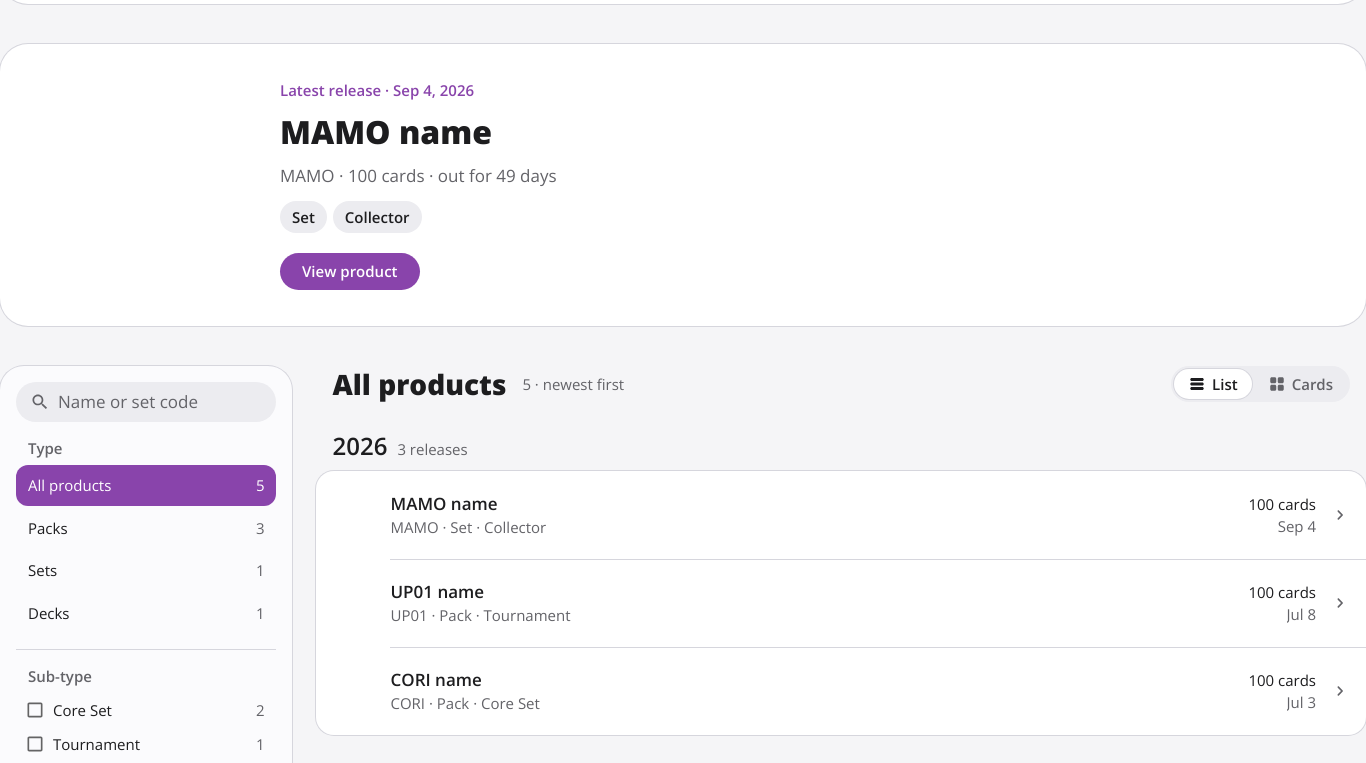
Test case: switches between the list and cards views
(page scrolled)
Click the button "Cards".
click(1300, 384)  # box x1=1254 y1=369 x2=1347 y2=399
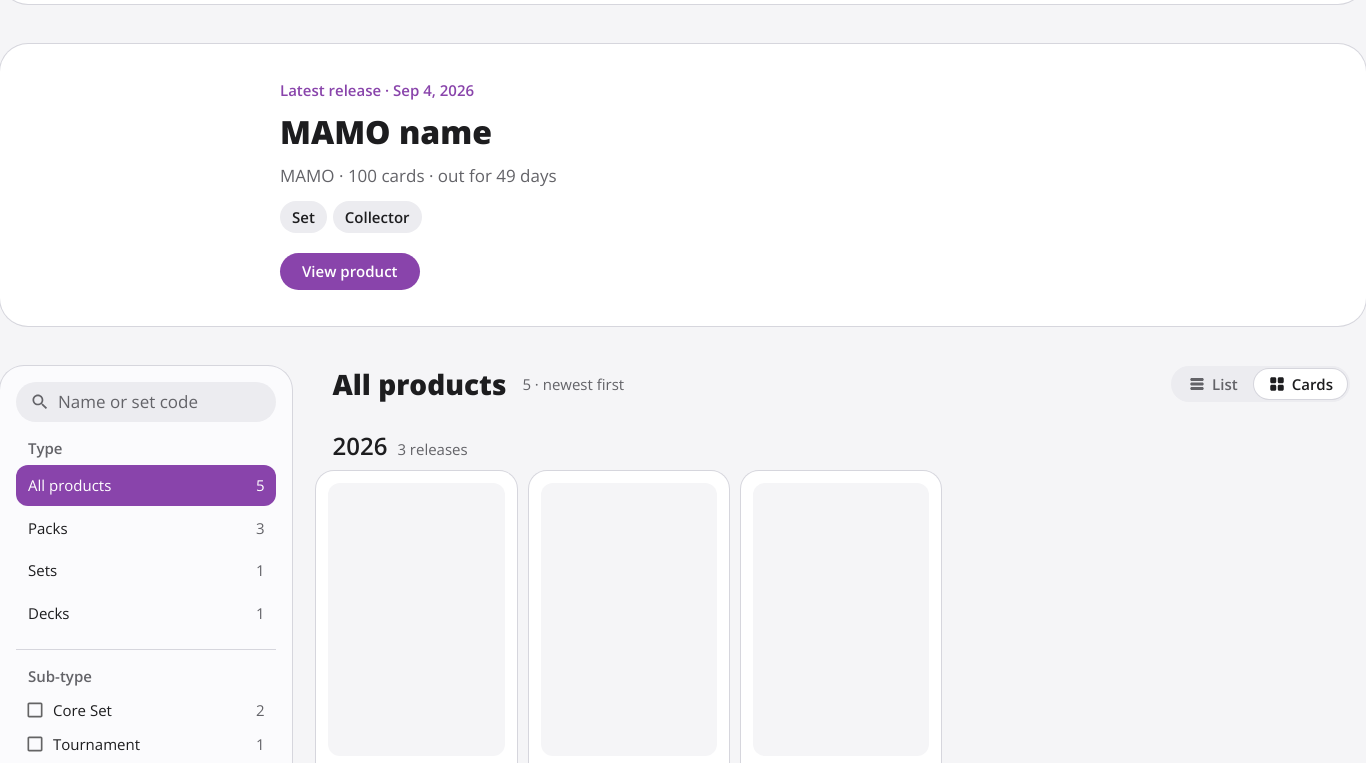
Result: no links are shown
